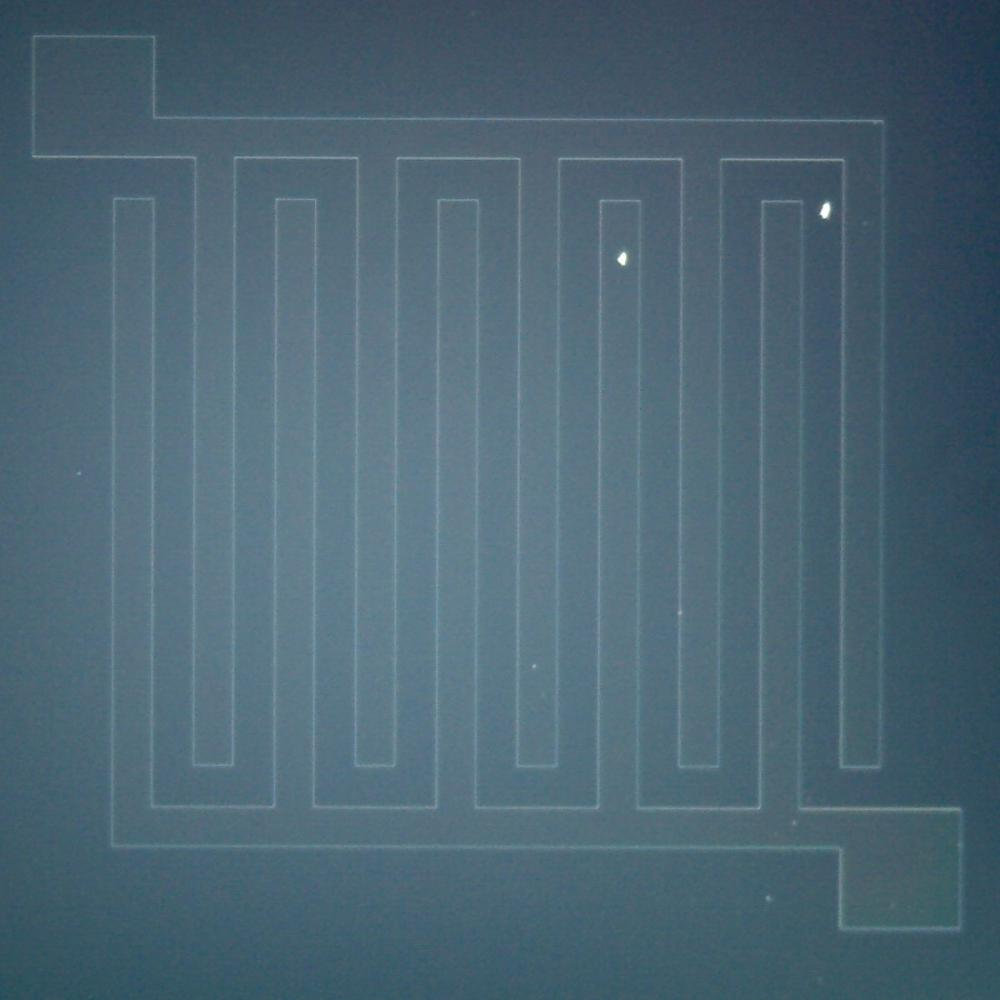dot: (816, 203, 832, 219), (616, 254, 628, 265), (765, 894, 774, 902), (791, 819, 798, 827), (76, 471, 82, 476), (678, 610, 682, 615), (532, 664, 536, 669), (874, 121, 878, 124)
